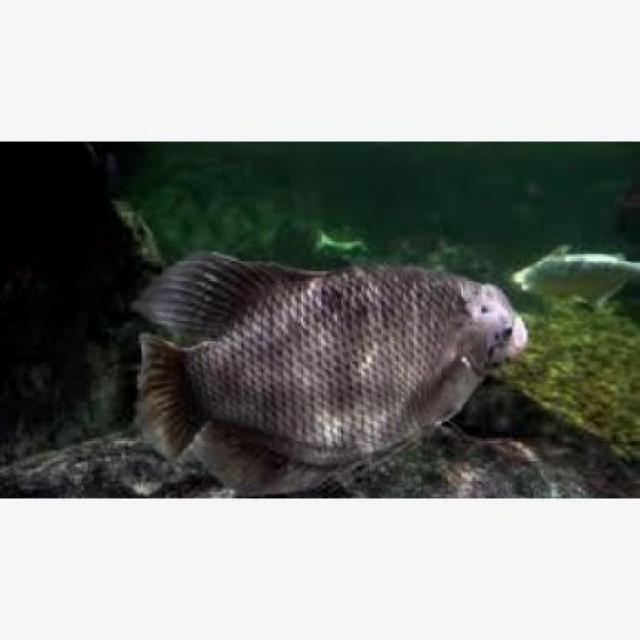gurame: (141, 244, 530, 493)
